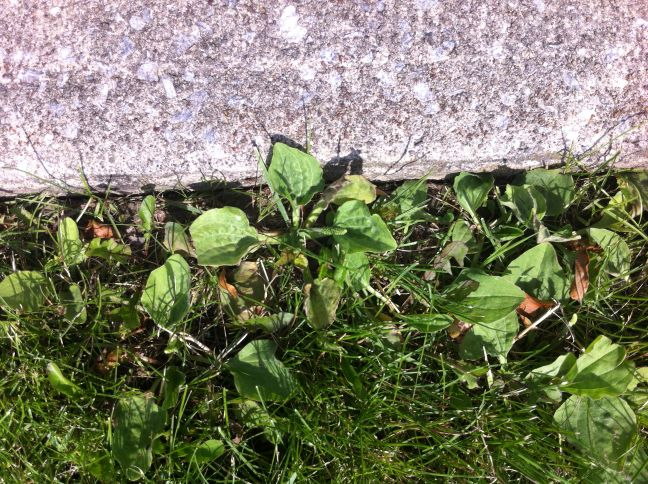weed1: (180, 135, 401, 321), (462, 171, 643, 309), (525, 331, 648, 476), (1, 212, 133, 343), (88, 382, 204, 476)
